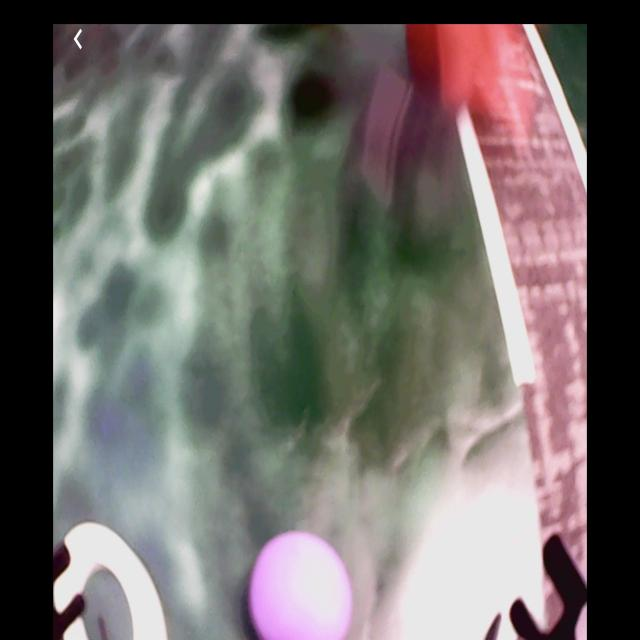ball: (249, 531, 353, 639)
